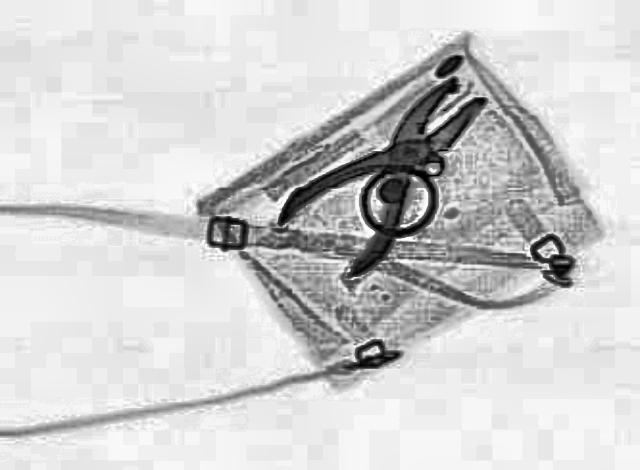Pliers: (248, 59, 528, 279)
